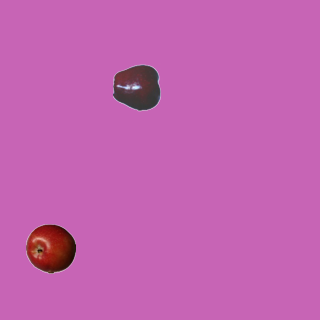Apple Braeburn: (25, 223, 75, 273)
Apple Red Delicious: (112, 62, 162, 112)
